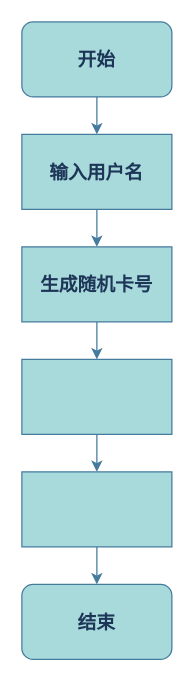
This 194x681 diagram has some shape labels left out. Each missing label, with the centre of its shape:
"保存卡号到数据库" goes at point 96,396.
"开户成功" goes at point 96,509.
